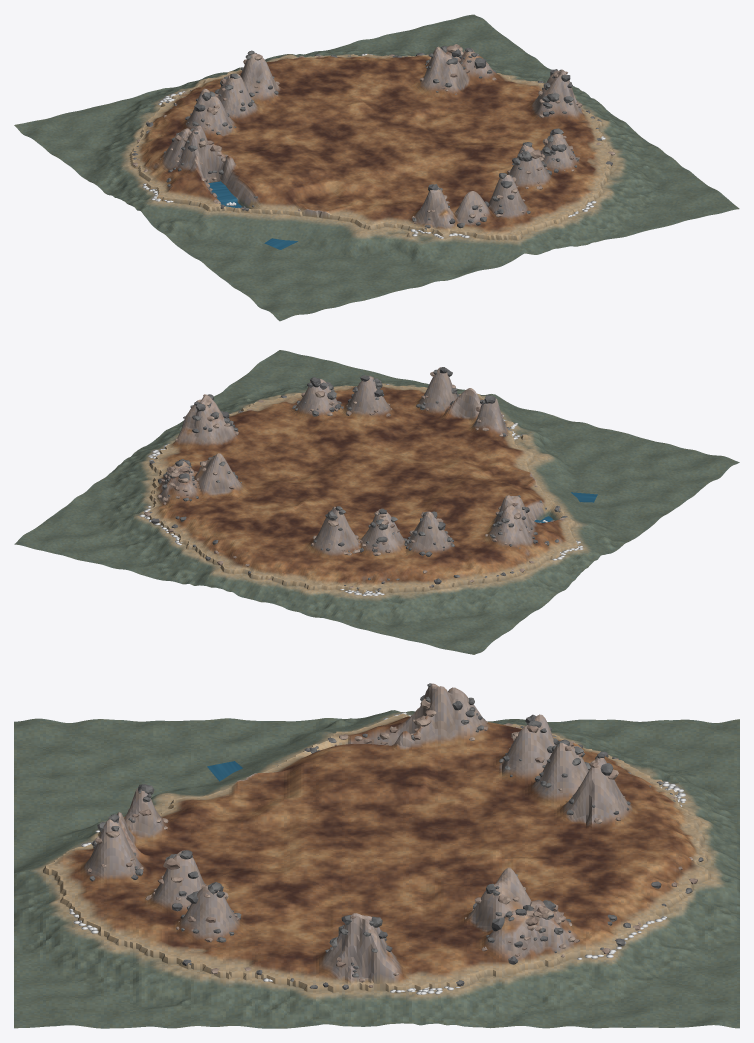
File: Terrain_P1.fbx
3 views of the same model, one above another, from view 1: azimuth 30°, elevation 25°; view 2: azimuth 150°, elevation 25°; view 3: azimuth 270°, elevation 25° (orthographic). The views are drawn at different scales.
Visible parts, largest first — view 1: Ground, River, Surf; view 2: Ground, Surf; view 3: Ground, Surf.
Part boxes in pixels (x1=…): Ground: x1=14, y1=14, x2=739, y2=321; River: x1=208, y1=181, x2=297, y2=249; Surf: x1=142, y1=53, x2=605, y2=238; Ground: x1=14, y1=350, x2=739, y2=654; Surf: x1=139, y1=384, x2=583, y2=596; Ground: x1=14, y1=683, x2=739, y2=1028; Surf: x1=69, y1=712, x2=686, y2=994.
Size of what is drawn, in the model's own units: 64000 by 9122 by 64000.
